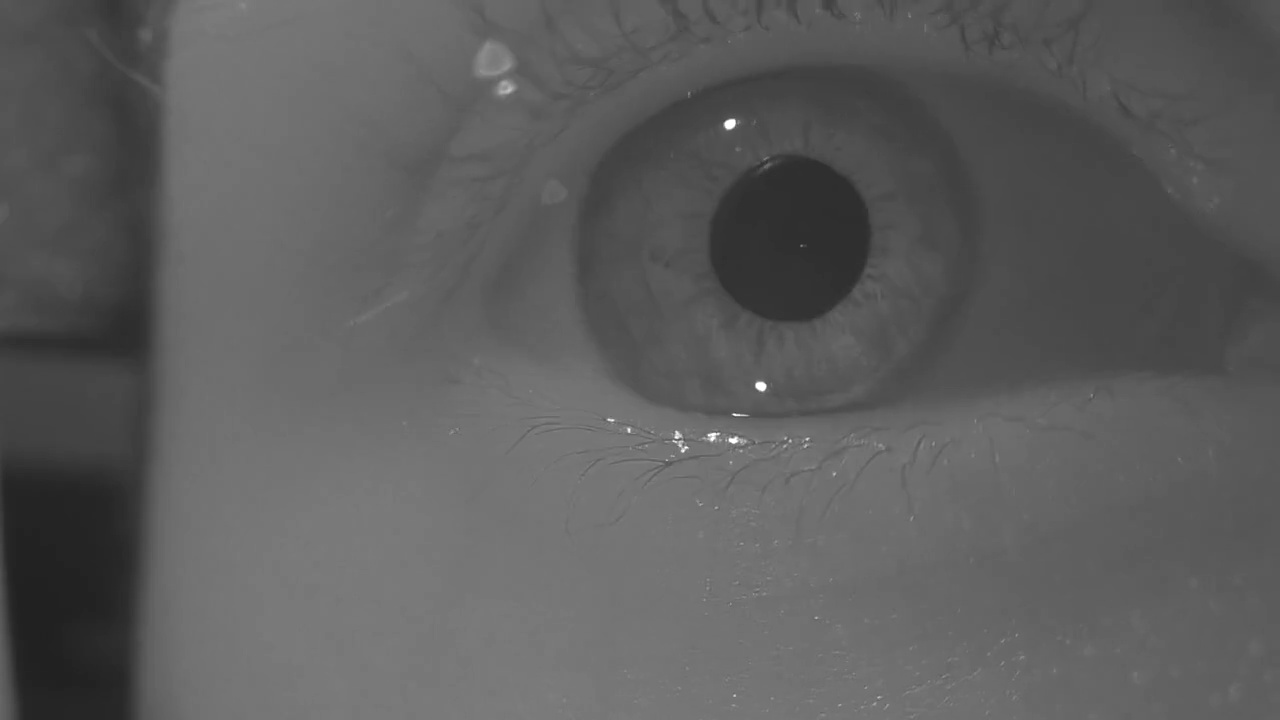pupil: (710, 155, 870, 320)
